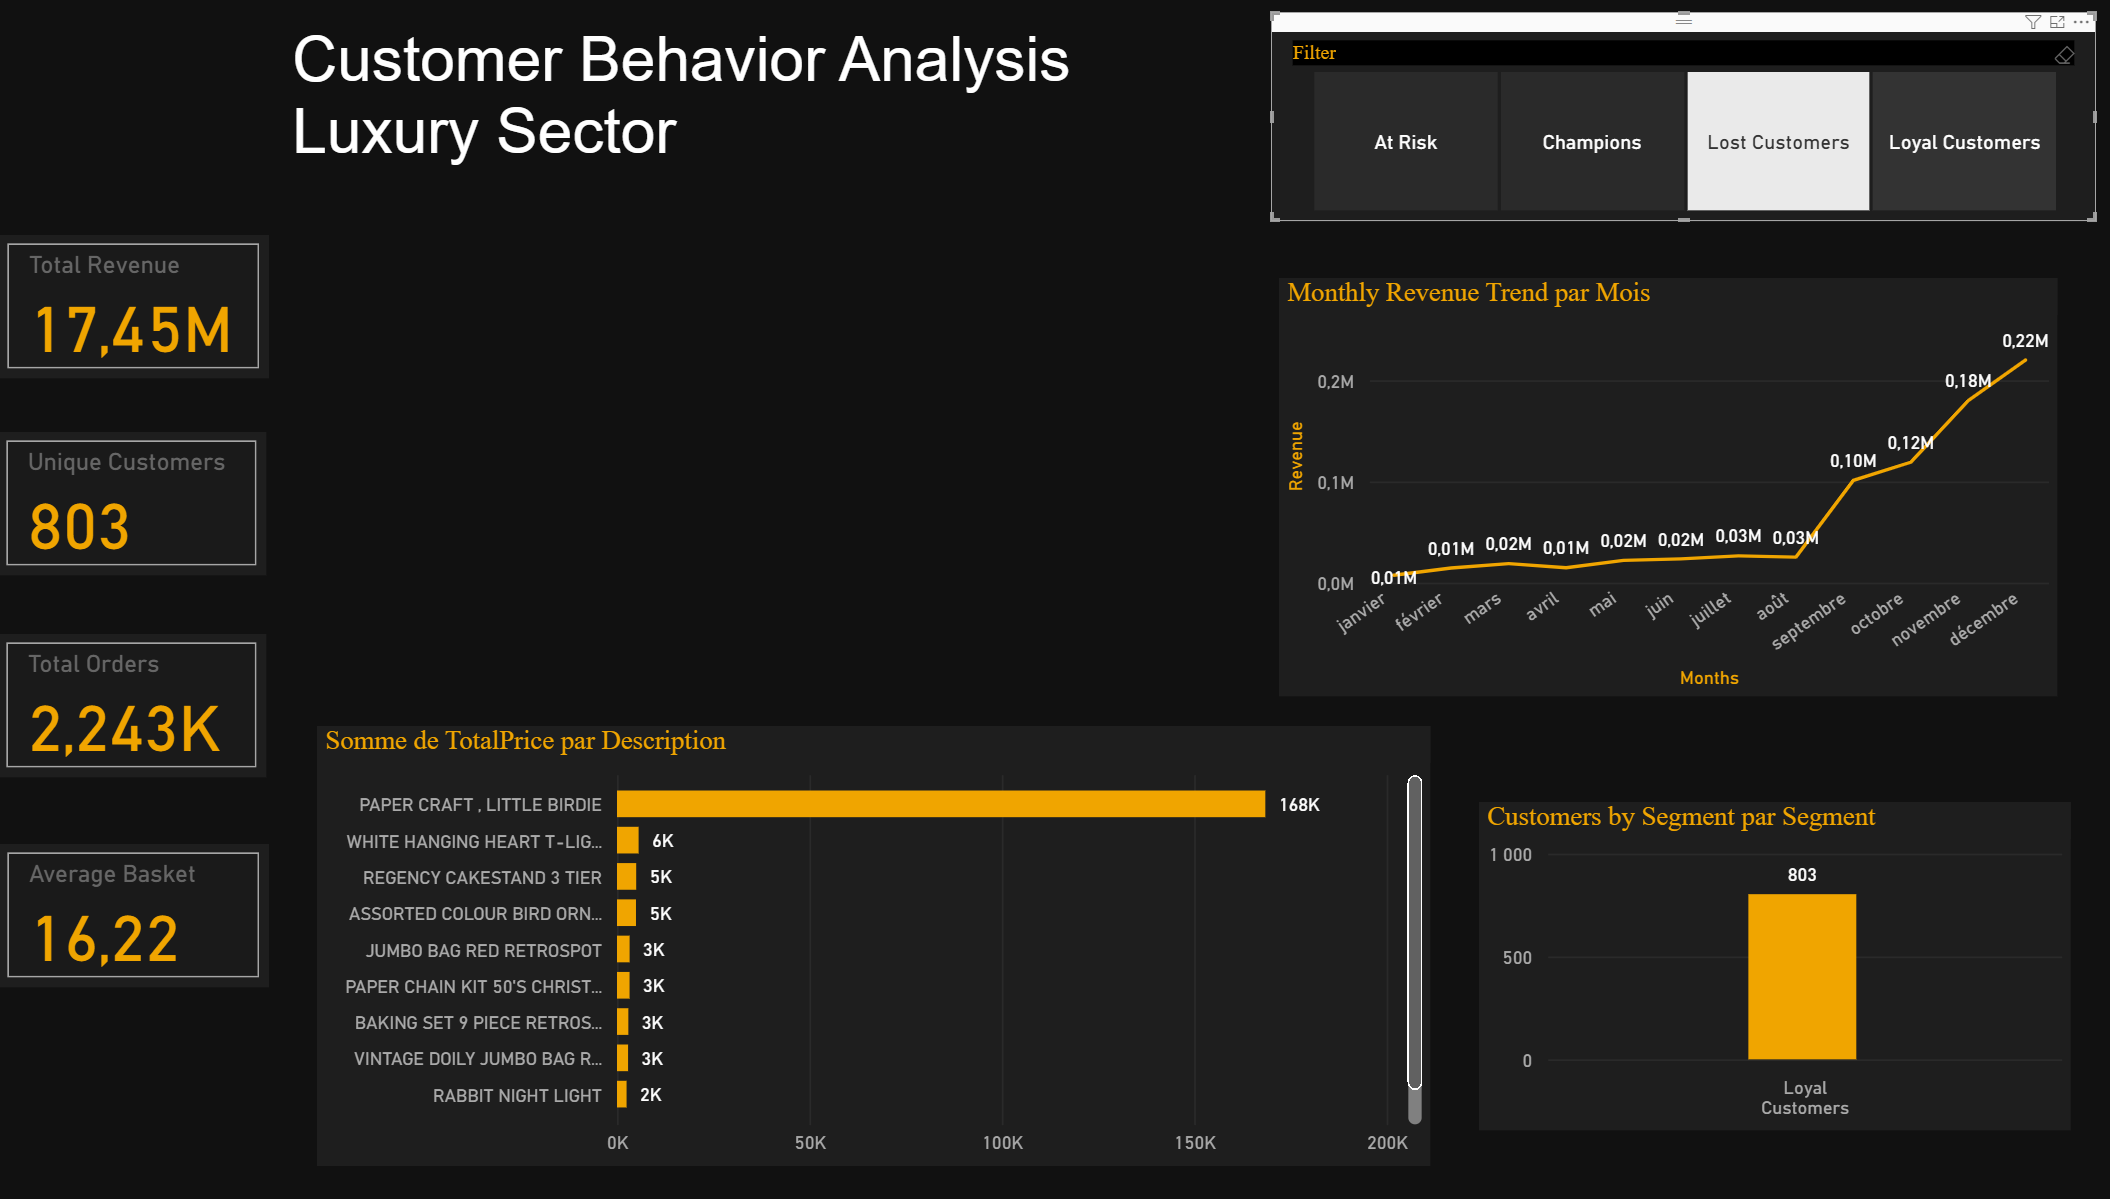

This screenshot's page, from the dashboard's own definition file:
{"tool":"powerbi","page":{"name":"Dashboard test","canvas":[1280,720],"ordinal":0},"visuals":[{"type":"cardVisual","fields":{"Data":["Sum(ca_mensuel.CA)"]},"box":[0.7,131.2,161.7,85.6],"z":0},{"type":"textbox","box":[171.6,0,482.4,99.6],"z":1000},{"type":"slicer","fields":{"Values":["rfm_segments.Segment"]},"box":[763.5,9.4,495.2,113.8],"z":2000},{"type":"cardVisual","fields":{"Data":["Count(transactions_clean.Customer ID)"]},"box":[0,249.4,161,85.6],"z":3000},{"type":"cardVisual","fields":{"Data":["Count(transactions_clean.Invoice)"]},"box":[0,370.5,161,85.6],"z":4000},{"type":"cardVisual","fields":{"Data":["Avg(transactions_clean.TotalPrice)"]},"box":[0.7,496.7,161.7,85.6],"z":5000},{"type":"lineChart","fields":{"Y":["Sum(transactions_clean.TotalPrice)"],"Category":["transactions_clean.InvoiceDate.Variation.Hiérarchie de dates.Mois"]},"box":[768.6,157.2,466.8,250.8],"z":6000},{"type":"clusteredBarChart","fields":{"Y":["Sum(transactions_clean.TotalPrice)"],"Category":["transactions_clean.Description"]},"box":[191.4,426,667.8,264],"z":7000},{"type":"columnChart","fields":{"Category":["rfm_segments.Segment"],"Y":["CountNonNull(rfm_segments.Customer ID)"]},"box":[888.6,471.6,354.6,197.4],"z":8000}]}

Visuals, with their boxes in screenshot pixels (x1, y1, x2, y2), scaled from the page's 1280x720 canvas onto the 2110x1199 screenshot:
cardVisual - Sum(ca_mensuel.CA): [left=1, top=218, right=268, bottom=361]
textbox: [left=283, top=0, right=1078, bottom=166]
slicer - rfm_segments.Segment: [left=1259, top=16, right=2075, bottom=205]
cardVisual - Count(transactions_clean.Customer ID): [left=0, top=415, right=265, bottom=558]
cardVisual - Count(transactions_clean.Invoice): [left=0, top=617, right=265, bottom=760]
cardVisual - Avg(transactions_clean.TotalPrice): [left=1, top=827, right=268, bottom=970]
lineChart - Sum(transactions_clean.TotalPrice) x transactions_clean.InvoiceDate.Variation.Hiérarchie de dates.Mois: [left=1267, top=262, right=2036, bottom=679]
clusteredBarChart - Sum(transactions_clean.TotalPrice) x transactions_clean.Description: [left=316, top=709, right=1416, bottom=1149]
columnChart - rfm_segments.Segment x CountNonNull(rfm_segments.Customer ID): [left=1465, top=785, right=2049, bottom=1114]
